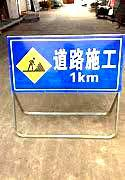sign: (9, 37, 122, 92)
